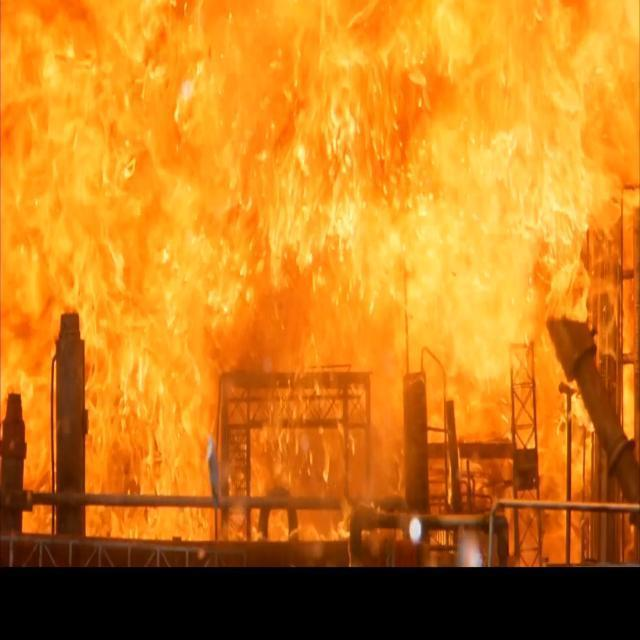fire: (6, 0, 640, 547)
